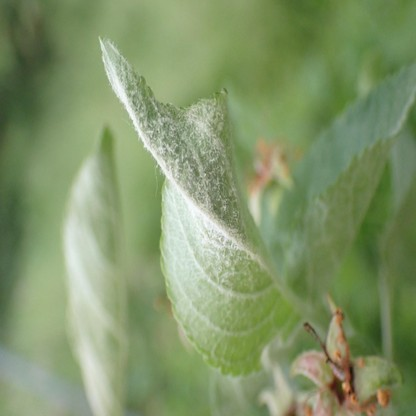powdery_mildew: (97, 35, 309, 374), (289, 198, 329, 265)
